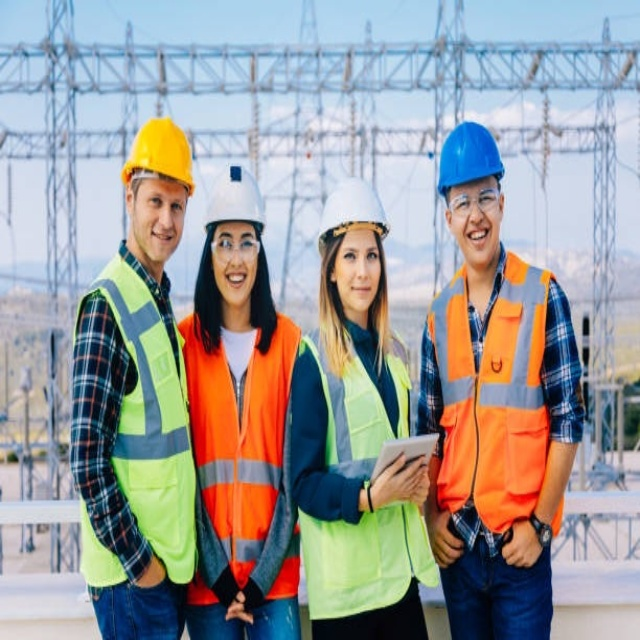Gafas: (208, 234, 261, 267), (451, 184, 505, 216)
Sin_gafas: (142, 188, 186, 218), (341, 240, 384, 270)
Sin_guantes: (371, 450, 432, 511), (499, 516, 545, 570), (427, 508, 467, 568), (225, 589, 255, 625)
Sin_mascara: (457, 221, 494, 259), (346, 279, 376, 312), (224, 268, 251, 303), (150, 226, 176, 260)
